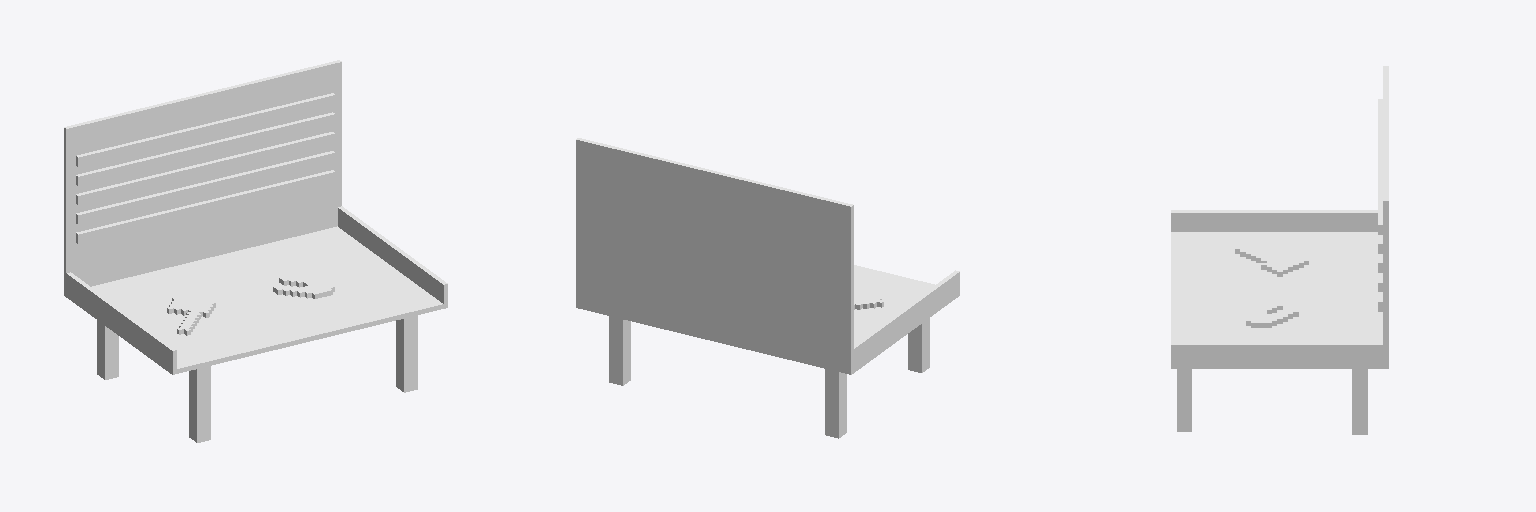
The model's file is Workbench.obj.
3 renders of one model, left to right at view 1: azimuth 30°, elevation 25°; view 2: azimuth 150°, elevation 25°; view 3: azimuth 270°, elevation 25°, orthographic.
Parts seen in each view (by area): view 1: object 1; view 2: object 1; view 3: object 1.
Boxes of the visible parts, box(x1,y1,x2,y2) form: object 1: box(64, 60, 447, 442); object 1: box(576, 138, 959, 438); object 1: box(1171, 66, 1388, 434).
Size of the model in its own units: 6 by 5.1 by 4.1.